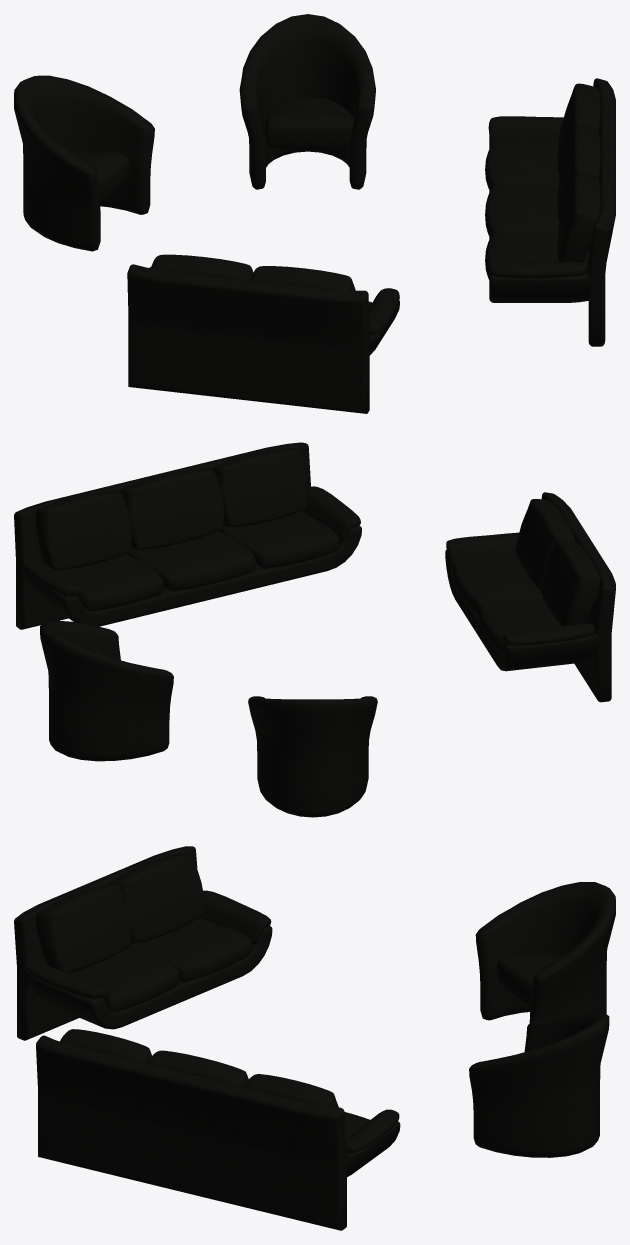
Rendered from LeatherSeats.fbx.
3 renders of one model, top to bottom at view 1: azimuth 30°, elevation 25°; view 2: azimuth 150°, elevation 25°; view 3: azimuth 270°, elevation 25°, orthographic. The views are drawn at different scales.
Parts seen in each view (by area): view 1: LeatherSeats; view 2: LeatherSeats; view 3: LeatherSeats.
Part boxes in pixels (left/top/right/bottom): LeatherSeats: left=14, top=14, right=615, bottom=413; LeatherSeats: left=14, top=442, right=615, bottom=817; LeatherSeats: left=14, top=846, right=615, bottom=1230.
Bounding box in the file's own units: 400 × 88.94 × 376.
Materials: 1 (1 with a texture image).
